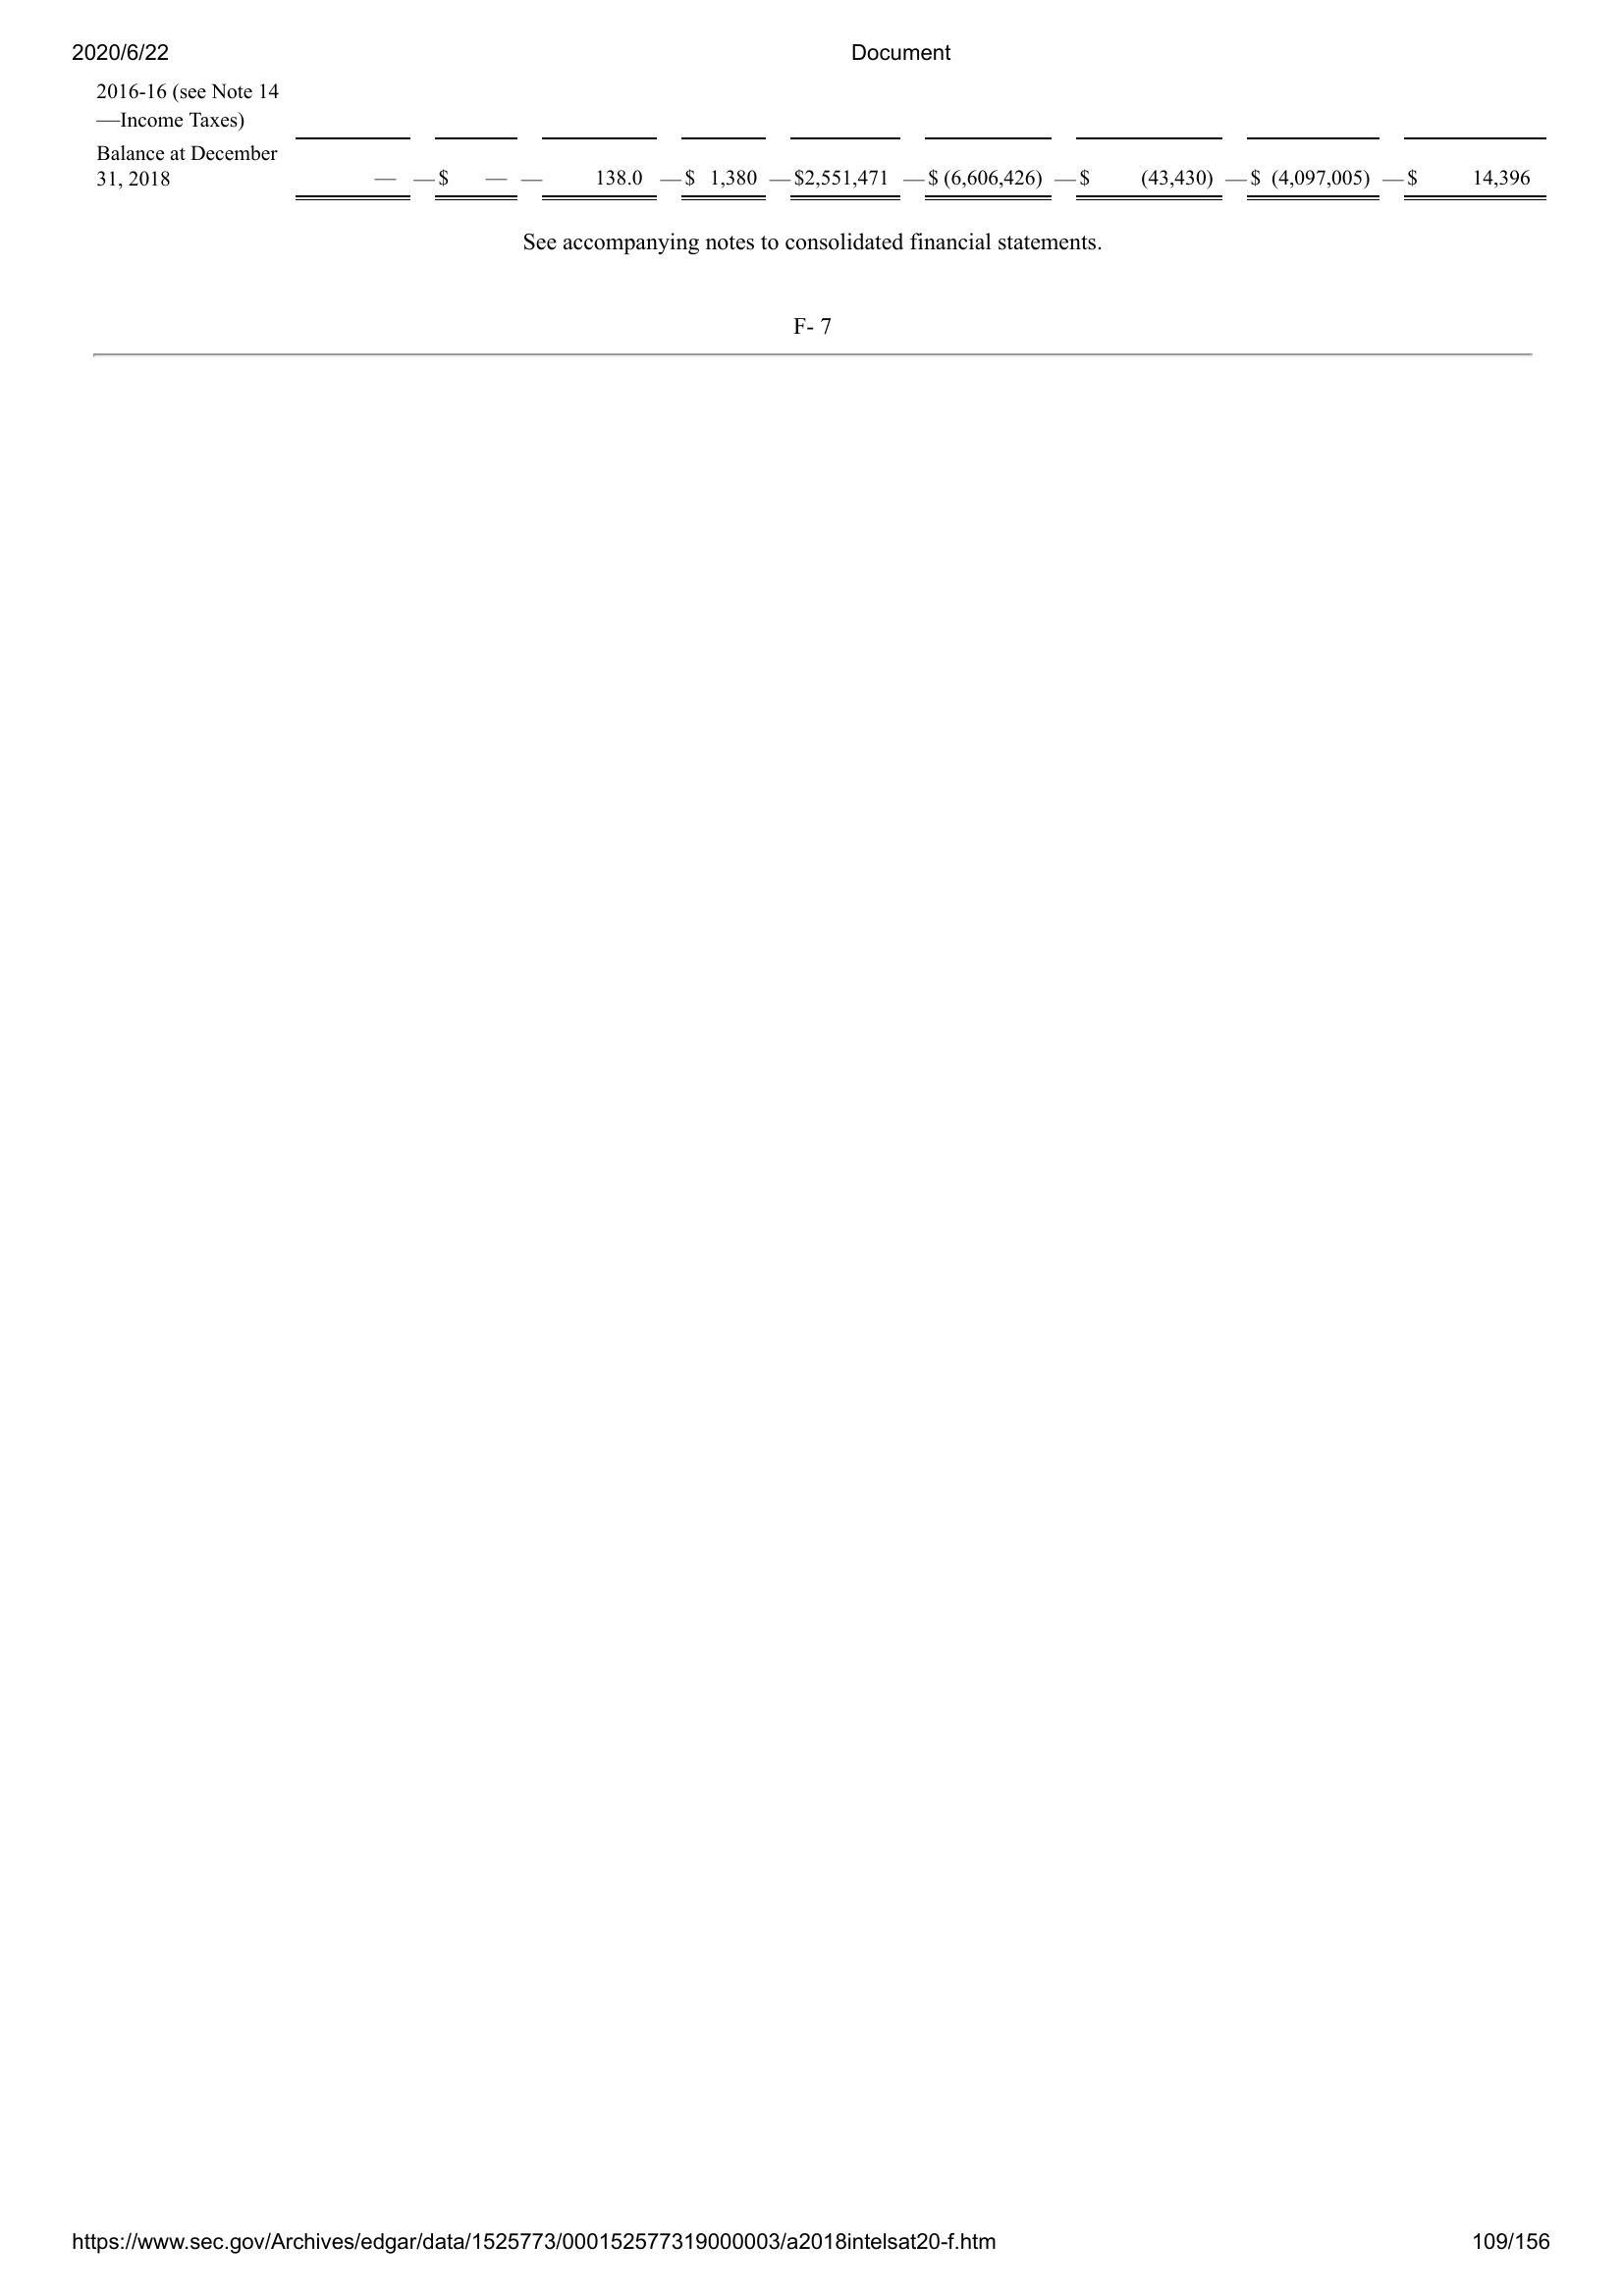table: (77, 68, 1553, 209)
